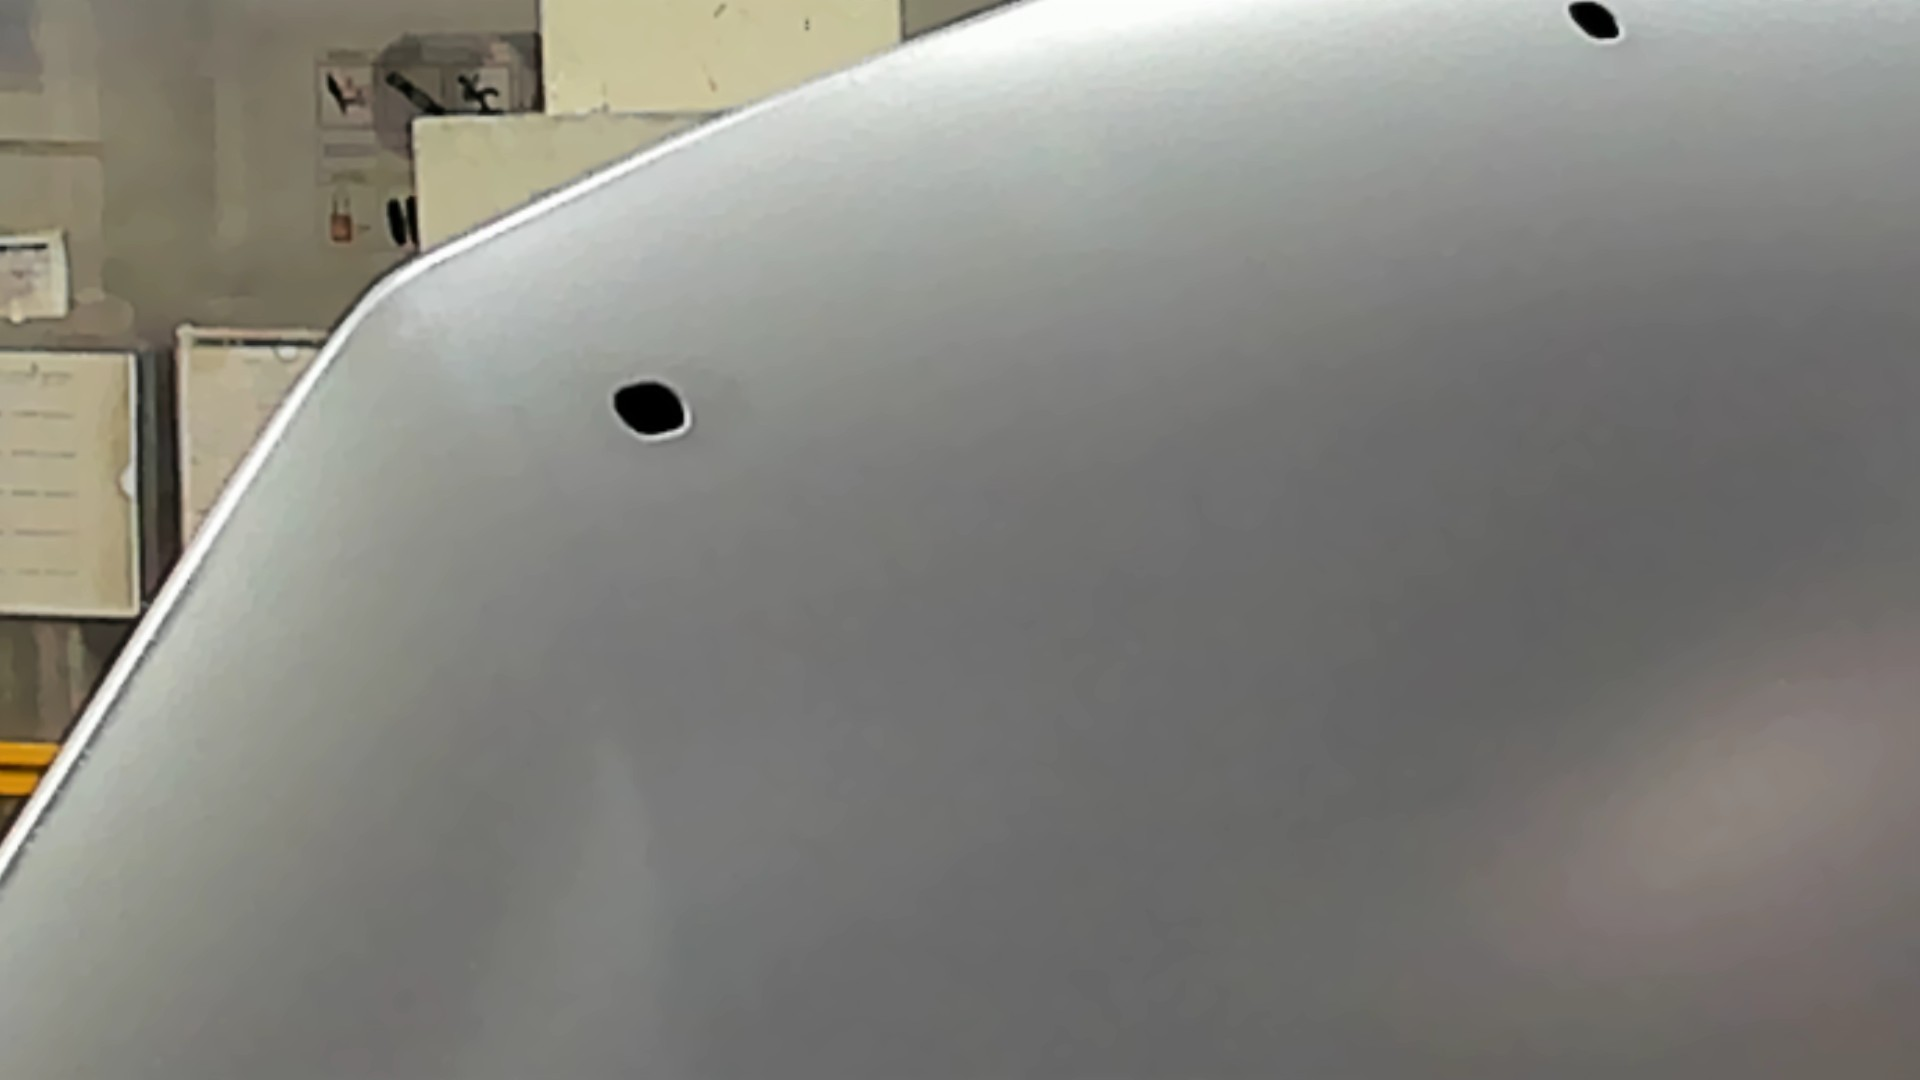amorfo: (605, 369, 705, 450), (1565, 1, 1629, 50)
capo: (833, 113, 1920, 1080)
